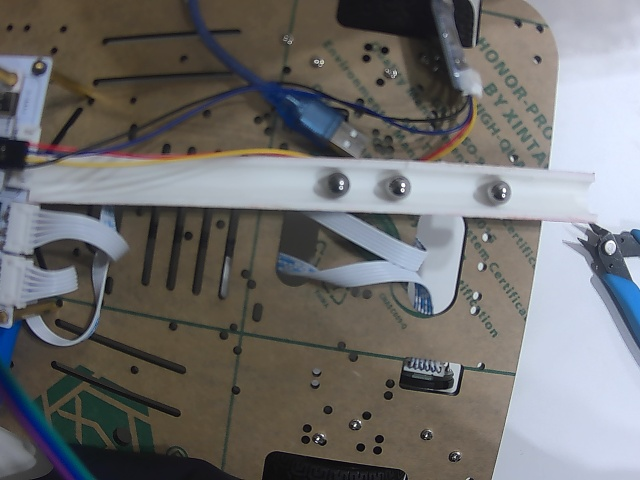steelball: (487, 180, 512, 205), (387, 175, 412, 198), (326, 173, 349, 197)
